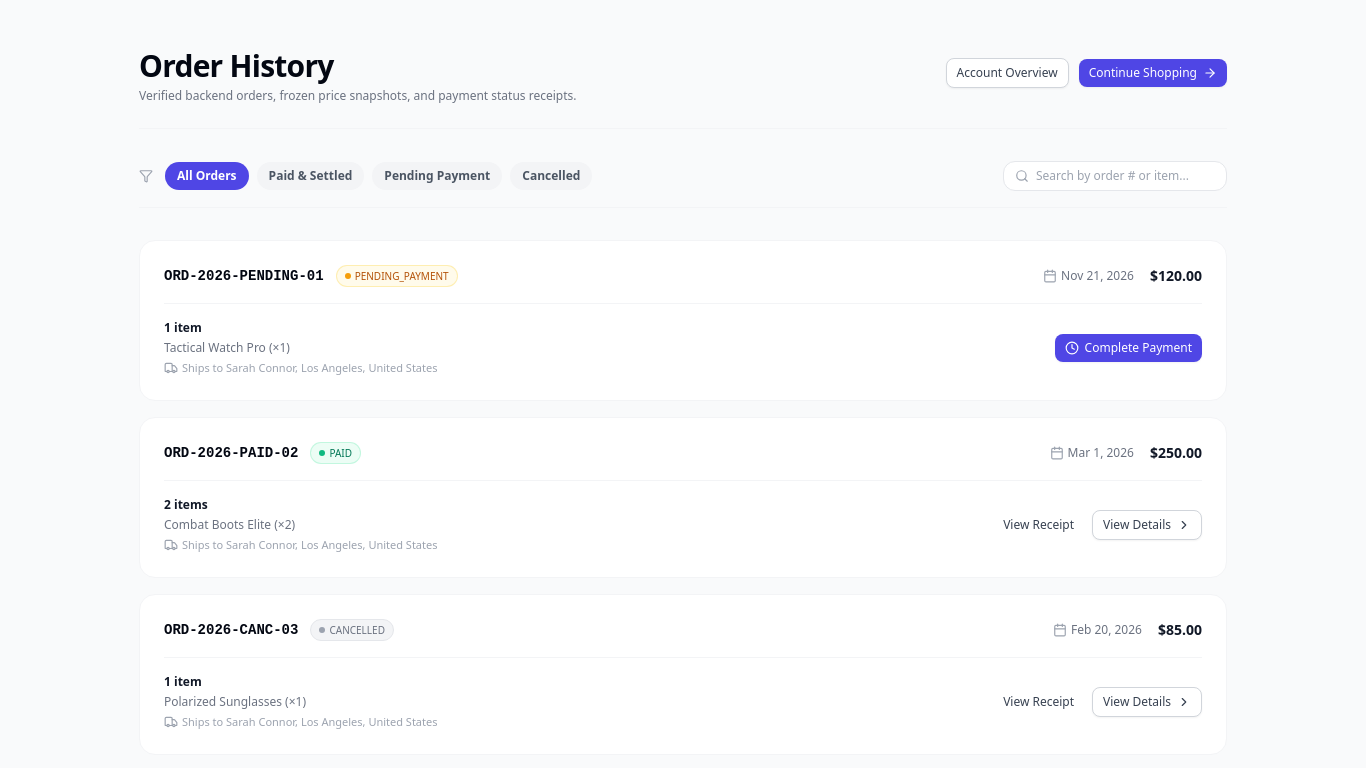
Test: Phase 7: User Dashboard and Order Management › Order History Listing (OrdersPage) › filters orders by status tab and search query
This screenshot has width=1366, height=768.
Expected: the text "ORD-2026-PENDING-01" is shown, [164,266,324,286]
Expected: the text "ORD-2026-PAID-02" is shown, [164,443,298,463]
// Filter by Paid & Settled
Click the button "Paid & Settled".
click(310, 176)  # box [257,162,364,190]
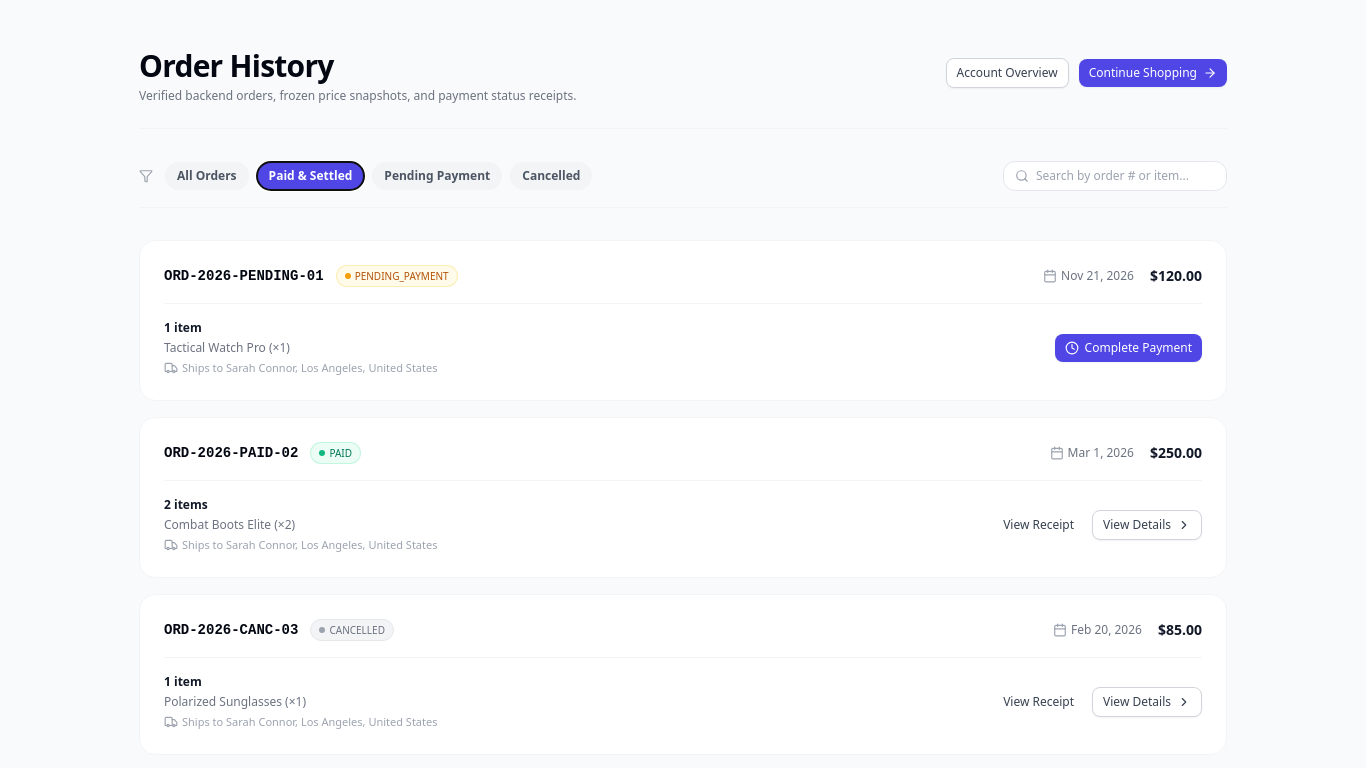
// Live search input filtering
Type "PENDING" into the field with placeholder "Search by order # or item...".
click(1115, 176); type("PENDING")  # box [1003,161,1227,191]
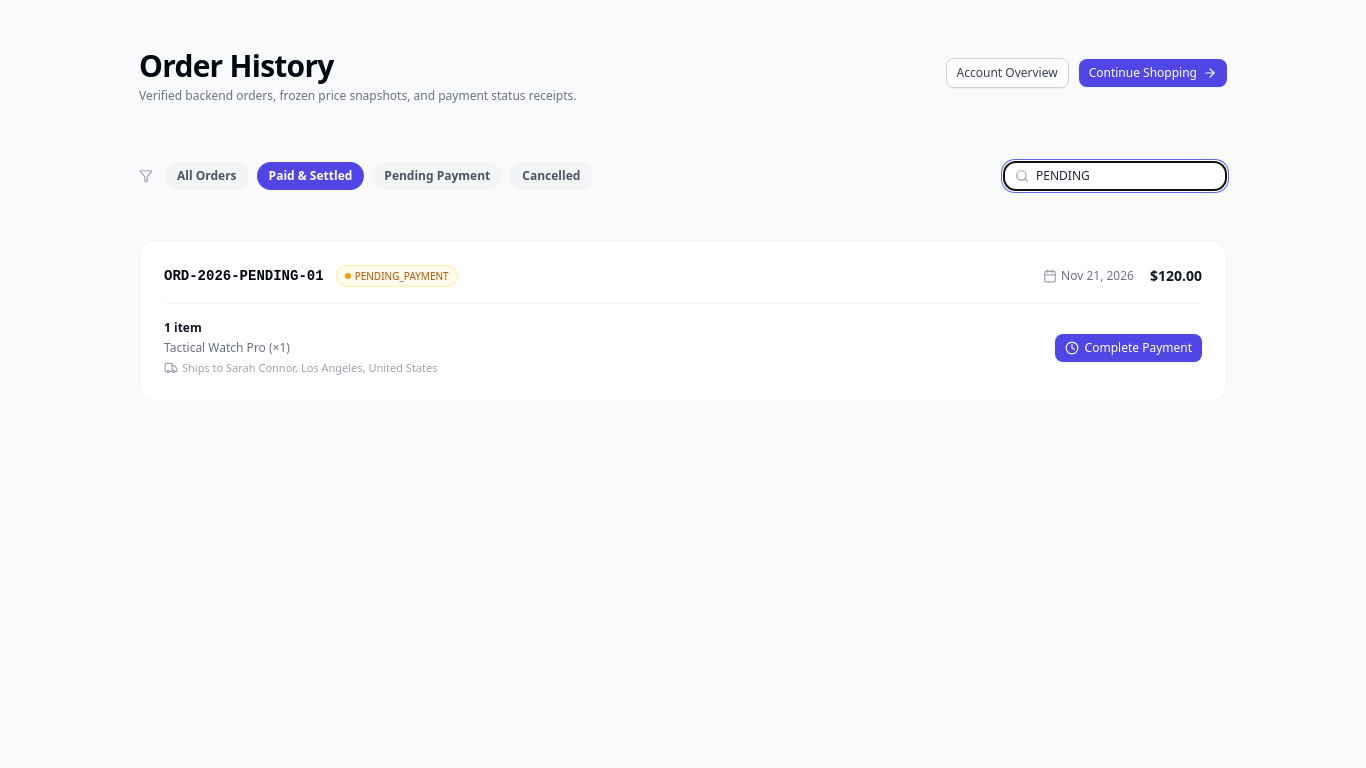
Expected: the text "ORD-2026-PENDING-01" is shown, [164,266,324,286]
Expected: the text "ORD-2026-PAID-02" is gone
